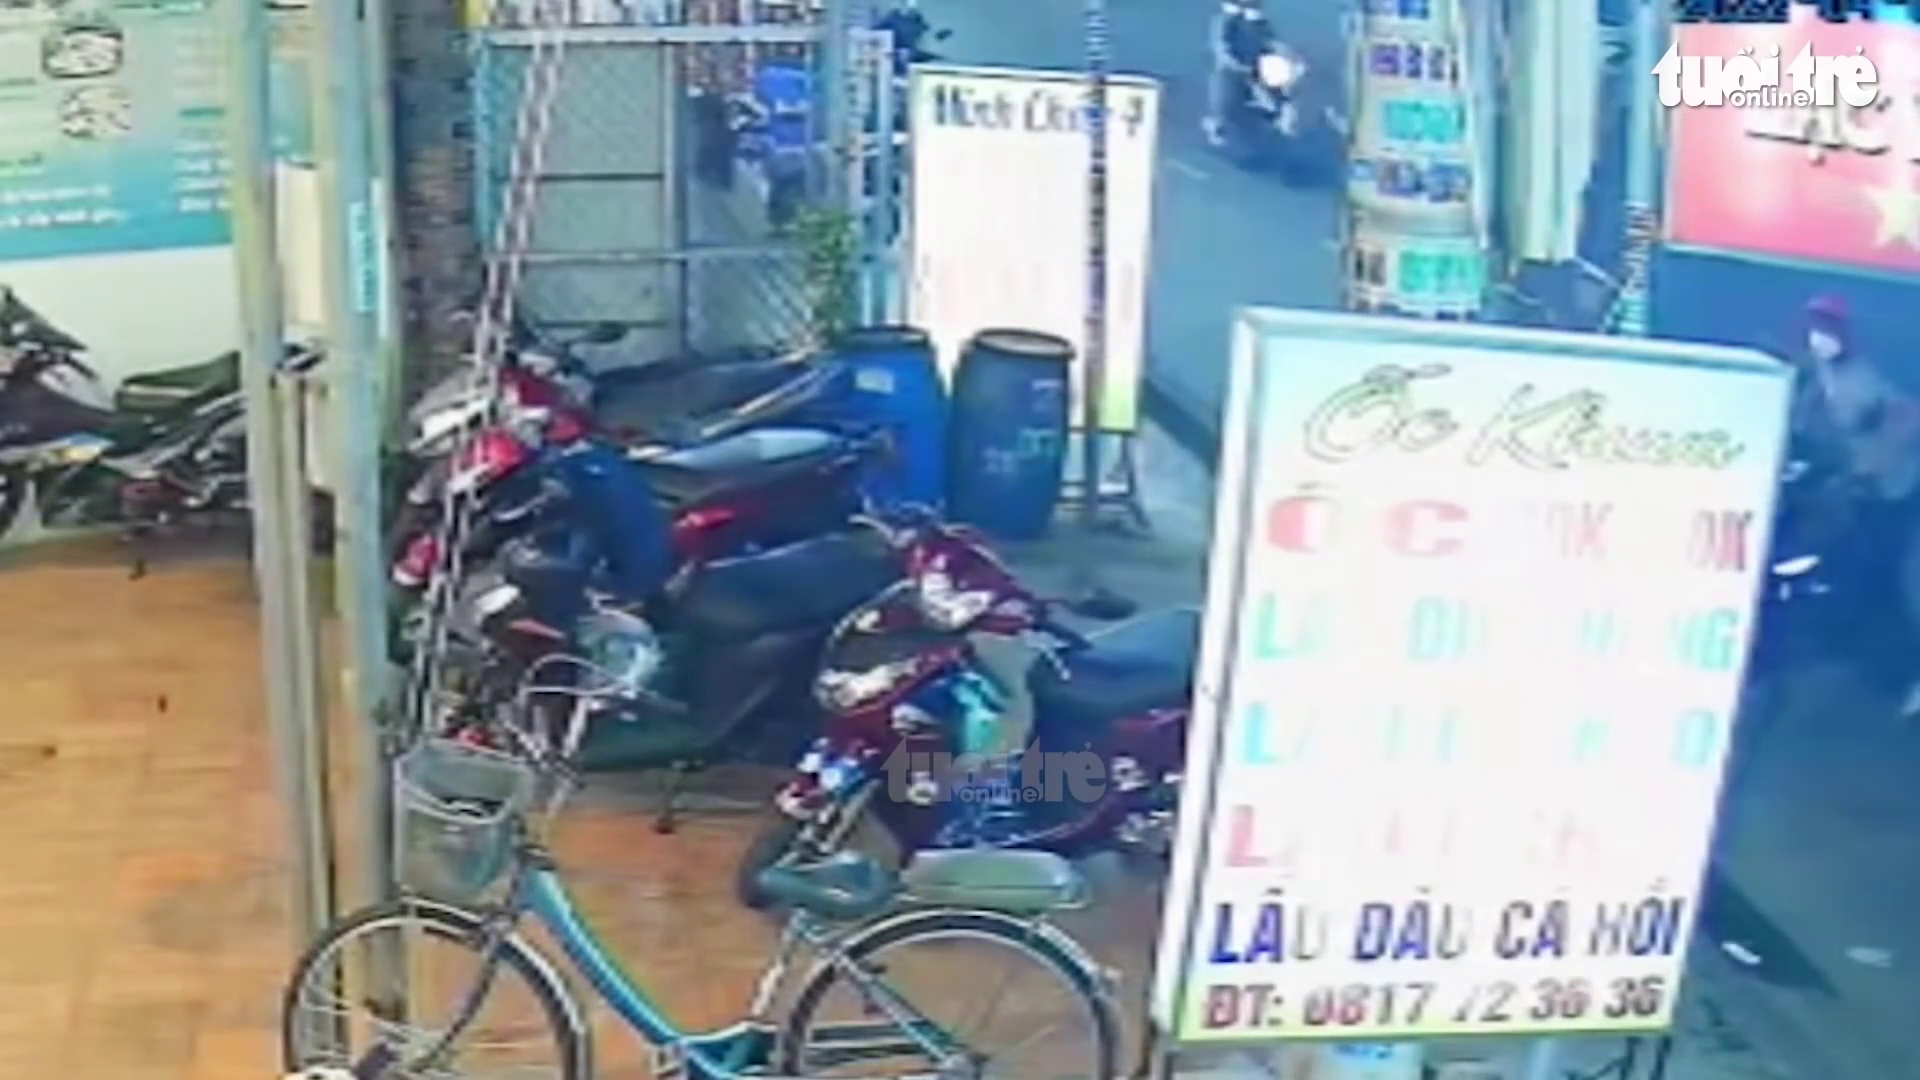Motorcycle: (415, 498, 1076, 824), (740, 512, 1203, 905), (394, 406, 899, 603), (0, 287, 249, 549)
